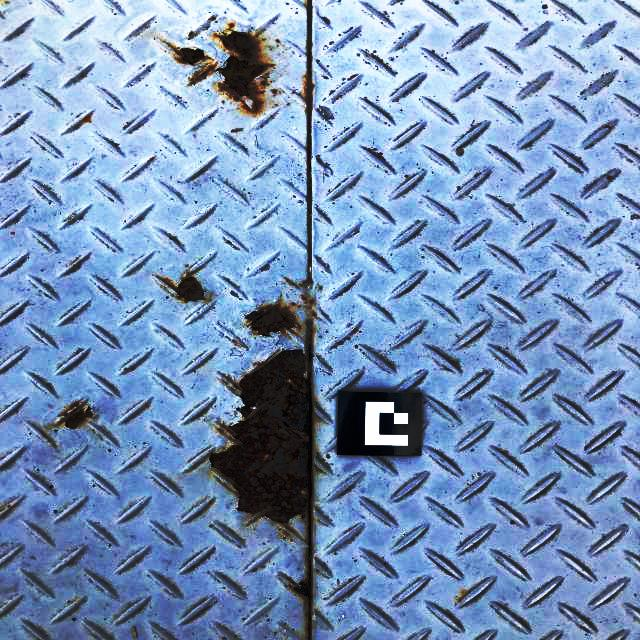Corrosion: (209, 346, 313, 528), (188, 31, 269, 112), (245, 303, 298, 338), (62, 402, 93, 429), (175, 276, 205, 303), (176, 48, 205, 65), (291, 578, 313, 600), (304, 73, 315, 111), (302, 296, 317, 317), (291, 303, 297, 306)
